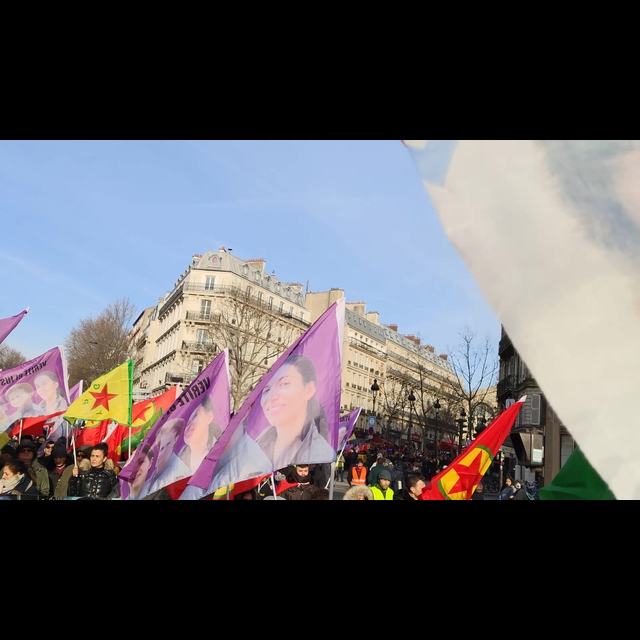PKK: (420, 395, 534, 501)
YPG: (70, 361, 136, 431)
